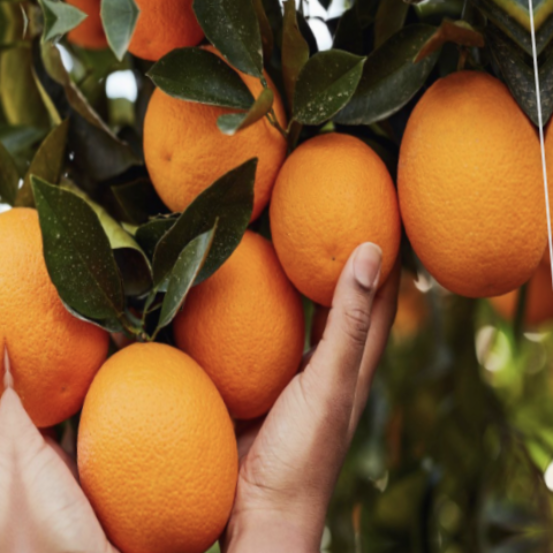orange: (363, 50, 552, 309), (51, 328, 258, 553), (254, 104, 415, 320)
